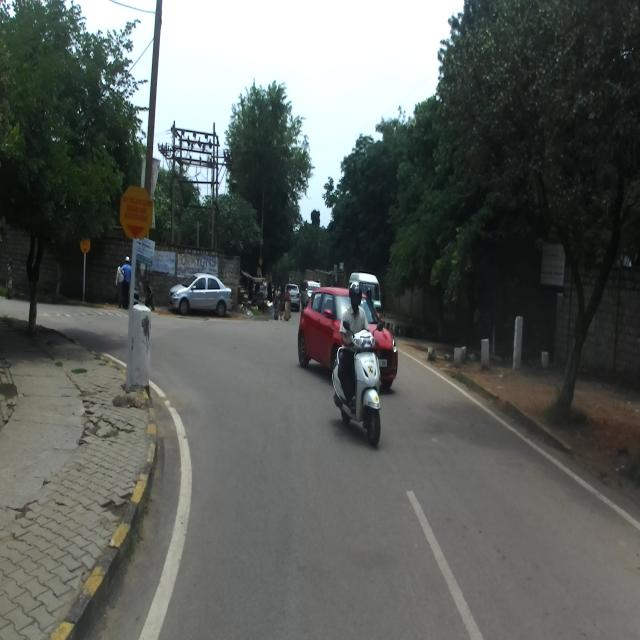car ahead at: (172, 269, 234, 322)
motorcycle ahead at: (334, 321, 384, 444)
